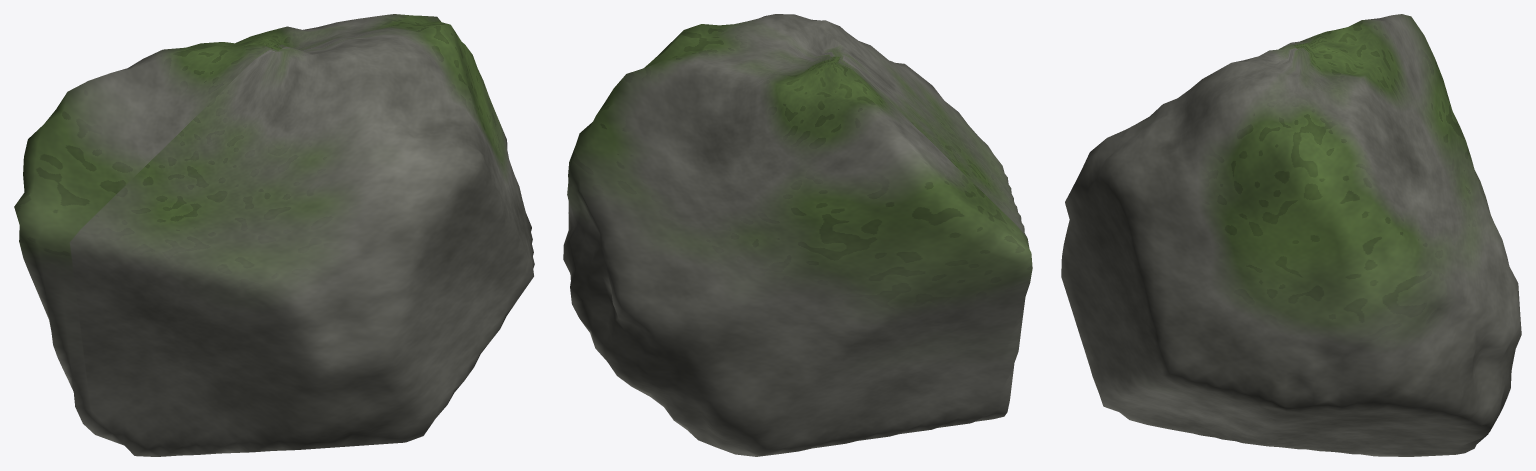
Rendered from PZ_R07_Fractured_Outcrop_Moss.glb.
3 views of the same model, side by side, from view 1: azimuth 30°, elevation 25°; view 2: azimuth 150°, elevation 25°; view 3: azimuth 270°, elevation 25° (orthographic). The views are drawn at different scales.
Parts seen in each view (by area): view 1: RENDER_R07_Fractured_Outcrop_Moss; view 2: RENDER_R07_Fractured_Outcrop_Moss; view 3: RENDER_R07_Fractured_Outcrop_Moss.
Part boxes in pixels (bbox=[...]): RENDER_R07_Fractured_Outcrop_Moss: bbox=[14, 14, 534, 456]; RENDER_R07_Fractured_Outcrop_Moss: bbox=[563, 14, 1032, 456]; RENDER_R07_Fractured_Outcrop_Moss: bbox=[1061, 14, 1521, 456].
Size of the model in its own units: 2.4 by 1.76 by 1.93.
Materials: 1 (1 with a texture image).
